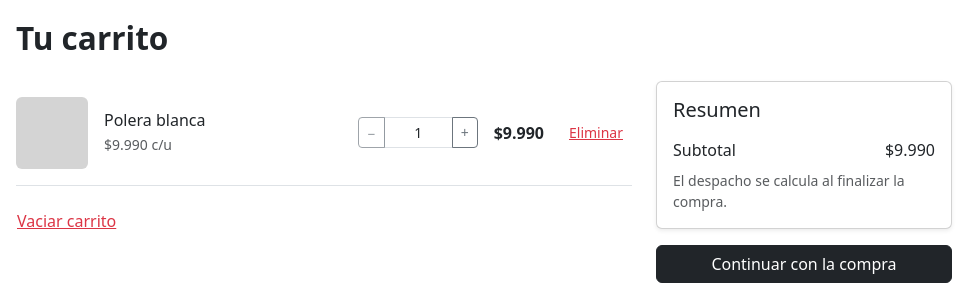
it: PaginaCarrito › muestra los productos guardados y los vacía al pulsar Vaciar carrito
This screenshot has width=969, height=300.
Expected: the heading "Polera blanca" is shown, top-left (104, 109), bottom-right (205, 131)
Click the button "Vaciar carrito": (67, 221) top-left (16, 202), bottom-right (117, 240)
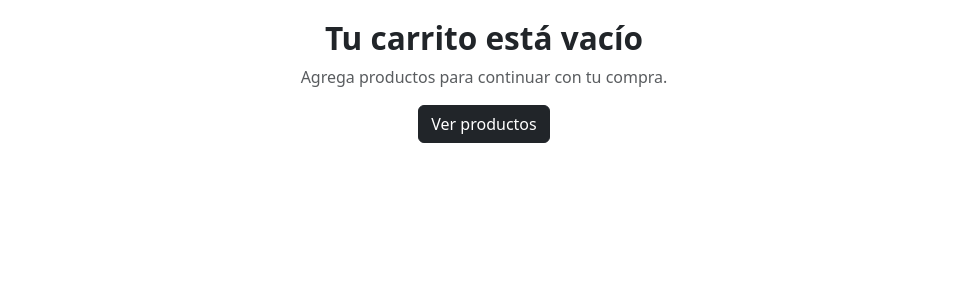
Expected: the heading "Tu carrito está vacío" is shown, top-left (325, 16), bottom-right (643, 59)
